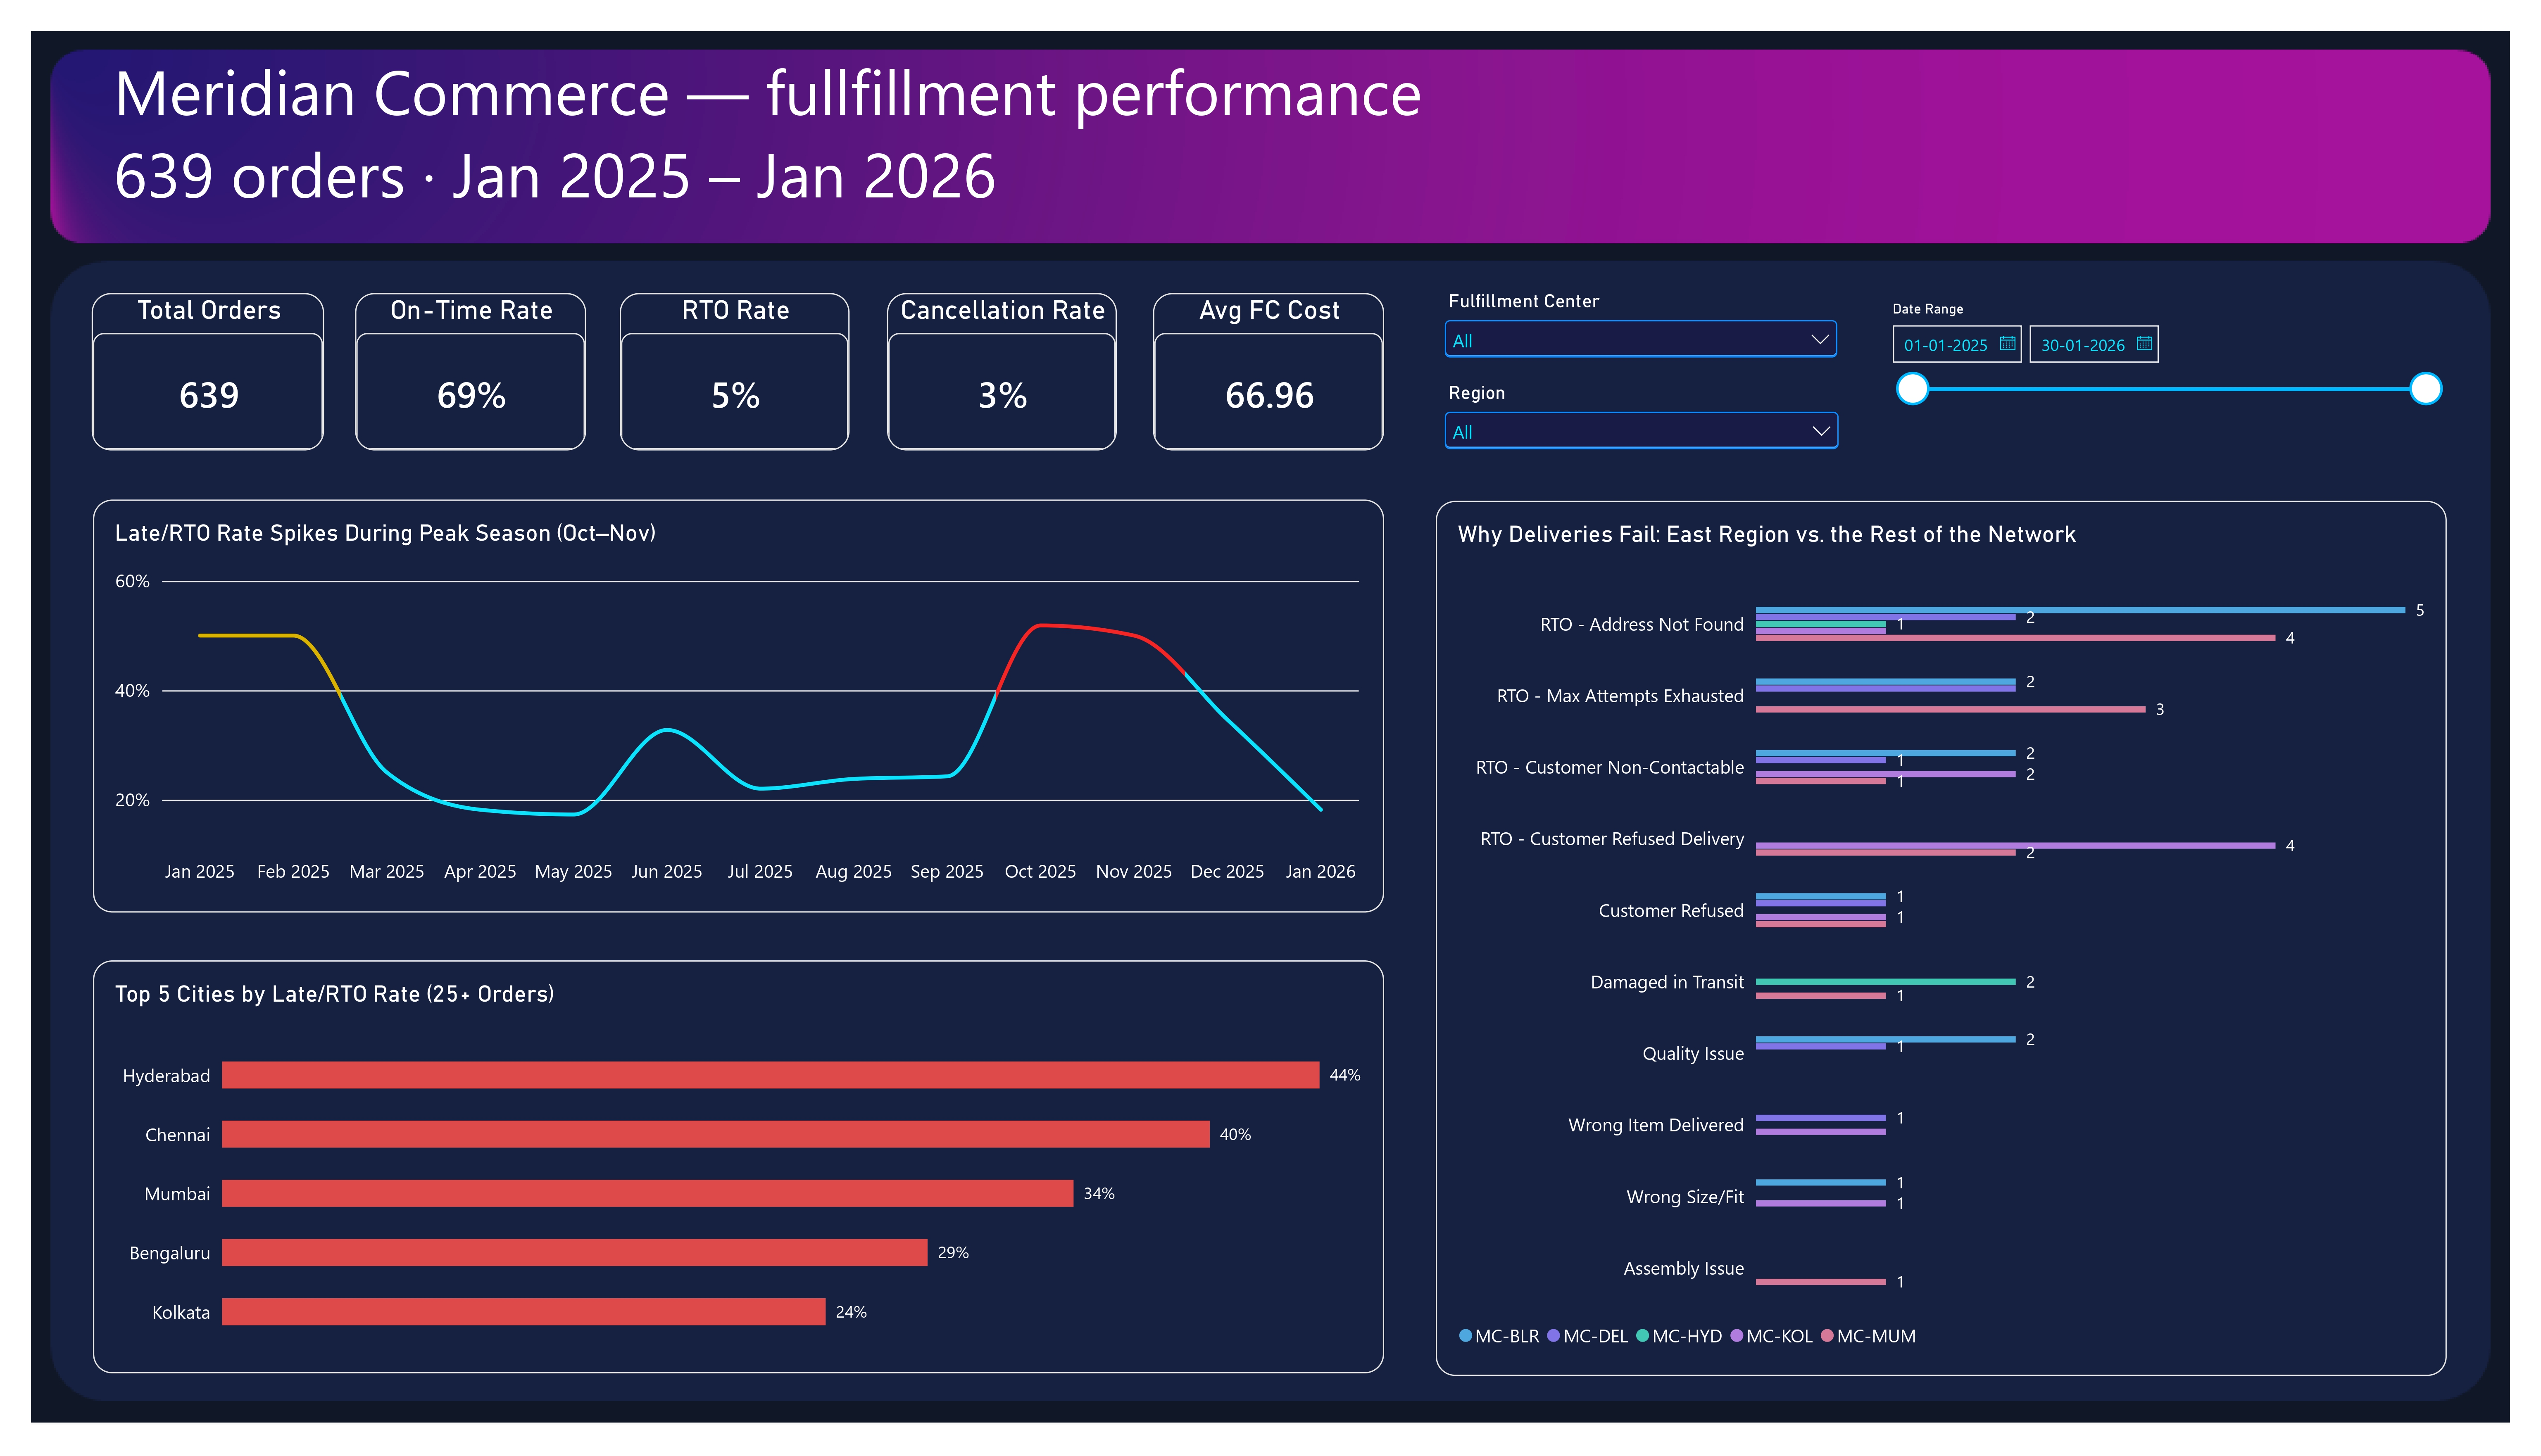

The dashboard page shown, as its layout file describes it:
{"tool":"powerbi","page":{"name":"Page 1","canvas":[1920,1080],"ordinal":0},"visuals":[{"type":"cardVisual","title":"On-Time Rate","fields":{"Data":["PROD-BACKUP.OnTimeDeliveryRate"]},"box":[251.4,202.8,178.7,122.7],"z":0},{"type":"cardVisual","title":"Total Orders","fields":{"Data":["DateTable.TotalOrders"]},"box":[47.2,202.8,179.4,122.2],"z":1000},{"type":"cardVisual","title":"RTO Rate","fields":{"Data":["PROD-BACKUP.RTORate"]},"box":[455.6,202.8,178.7,122.7],"z":2000},{"type":"cardVisual","title":"Cancellation Rate","fields":{"Data":["PROD-BACKUP.CancellationRate"]},"box":[662.5,202.8,178.7,122.7],"z":3000},{"type":"cardVisual","title":"Avg FC Cost","fields":{"Data":["PROD-BACKUP.AvgFulfillmentCost"]},"box":[869.4,202.8,178.7,122.7],"z":4000},{"type":"lineChart","title":"Late/RTO Rate Spikes During Peak Season (Oct–Nov)","fields":{"Category":["DateTable.MonthYear"],"Y":["PROD-BACKUP.LateOrRTORate"]},"box":[48,362.7,1000,320],"z":5000},{"type":"barChart","title":"Top 5 Cities by Late/RTO Rate (25+ Orders)","fields":{"Category":["PROD-BACKUP.Destination_City"],"Y":["PROD-BACKUP.LateOrRTORate"]},"box":[48,720,1000,320],"z":6000},{"type":"textbox","box":[64,13.3,1821.3,152],"z":7000},{"type":"slicer","title":"Fu","fields":{"Values":["PROD-BACKUP.Fulfillment_Center"]},"box":[1089.6,201.5,314.9,62.7],"z":8000},{"type":"slicer","fields":{"Values":["PROD-BACKUP.Warehouse_Region"]},"box":[1090,272.2,314.9,73.1],"z":9000},{"type":"slicer","fields":{"Values":["DateTable.Date"]},"box":[1433.5,208.8,437.3,122.4],"z":10000},{"type":"clusteredBarChart","title":"Why Deliveries Fail: East Region vs. the Rest of the Network","fields":{"Category":["PROD-BACKUP.Return_Reason"],"Series":["PROD-BACKUP.Fulfillment_Center"],"Y":["CountNonNull(PROD-BACKUP.Order_ID)"]},"box":[1088,364.1,782.6,678.3],"z":11000}]}

Visuals, with their boxes in screenshot pixels (x1, y1, x2, y2):
"On-Time Rate" cardVisual: (left=300, top=281, right=542, bottom=447)
"Total Orders" cardVisual: (left=24, top=281, right=267, bottom=446)
"RTO Rate" cardVisual: (left=577, top=281, right=818, bottom=447)
"Cancellation Rate" cardVisual: (left=857, top=281, right=1099, bottom=447)
"Avg FC Cost" cardVisual: (left=1137, top=281, right=1378, bottom=447)
"Late/RTO Rate Spikes During Peak Season (Oct–Nov)" lineChart: (left=25, top=497, right=1378, bottom=930)
"Top 5 Cities by Late/RTO Rate (25+ Orders)" barChart: (left=25, top=981, right=1378, bottom=1413)
textbox: (left=47, top=25, right=2511, bottom=230)
"Fu" slicer: (left=1435, top=279, right=1861, bottom=364)
slicer - PROD-BACKUP.Warehouse_Region: (left=1435, top=375, right=1861, bottom=474)
slicer - DateTable.Date: (left=1900, top=289, right=2492, bottom=455)
"Why Deliveries Fail: East Region vs. the Rest of the Network" clusteredBarChart: (left=1432, top=499, right=2491, bottom=1417)
